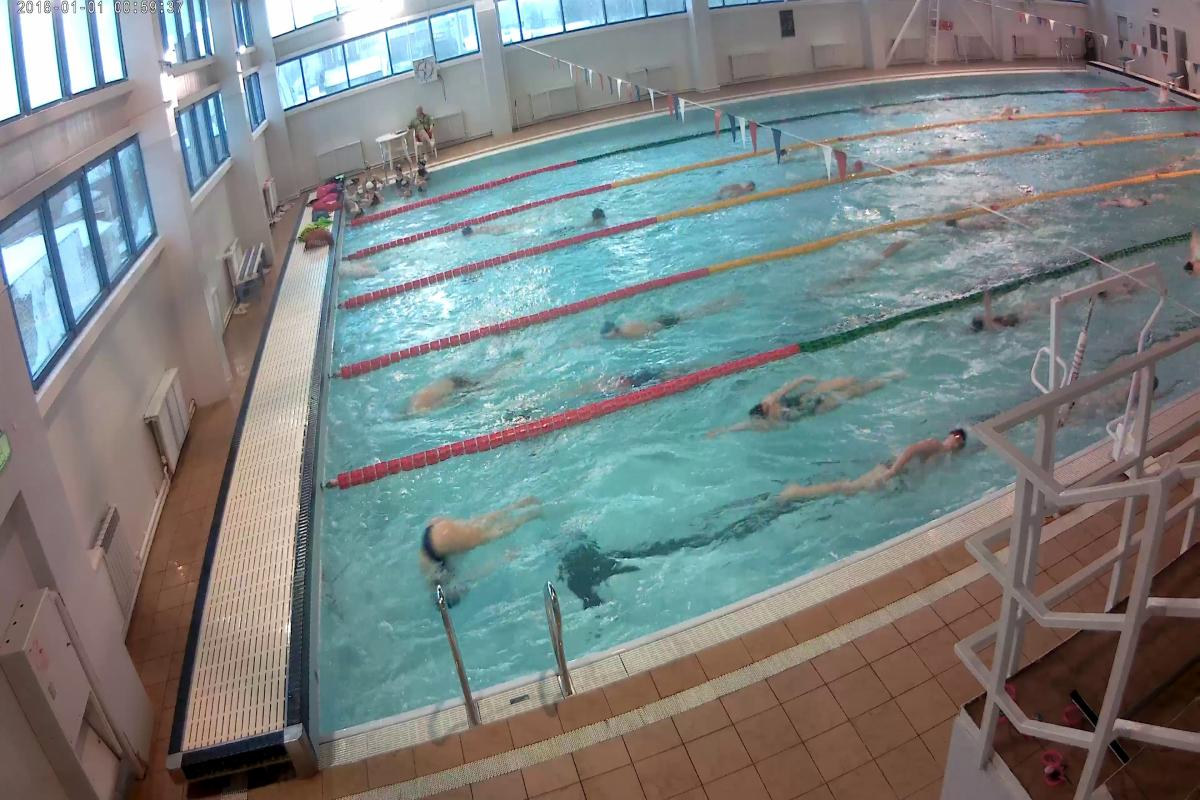swimmer: (796, 435, 959, 518), (735, 368, 887, 432), (429, 508, 527, 596), (577, 359, 705, 397), (604, 304, 728, 337), (958, 292, 1044, 339), (390, 377, 516, 409), (941, 209, 1043, 238), (1092, 273, 1151, 302), (1102, 194, 1172, 218), (837, 253, 896, 278), (1174, 244, 1198, 286)
